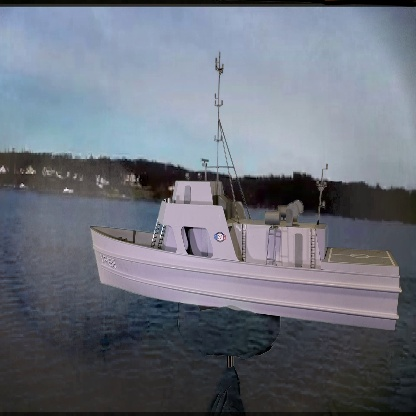YP689: (91, 54, 401, 334)
